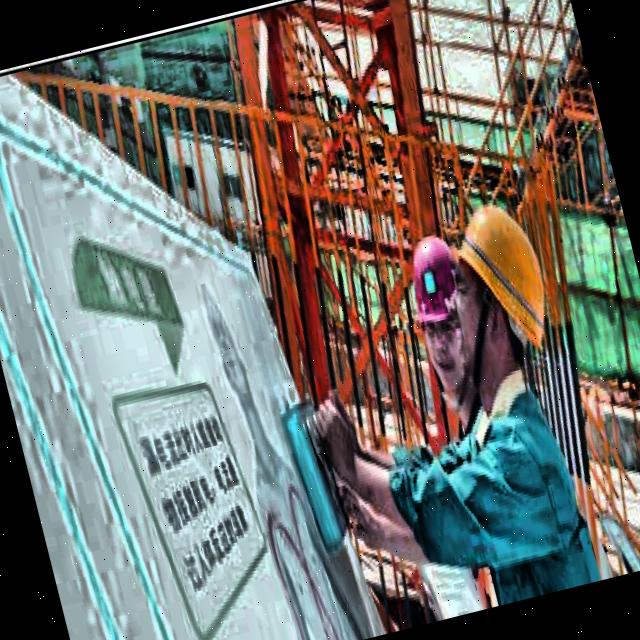helmet: (429, 198, 564, 393), (398, 228, 487, 401)
